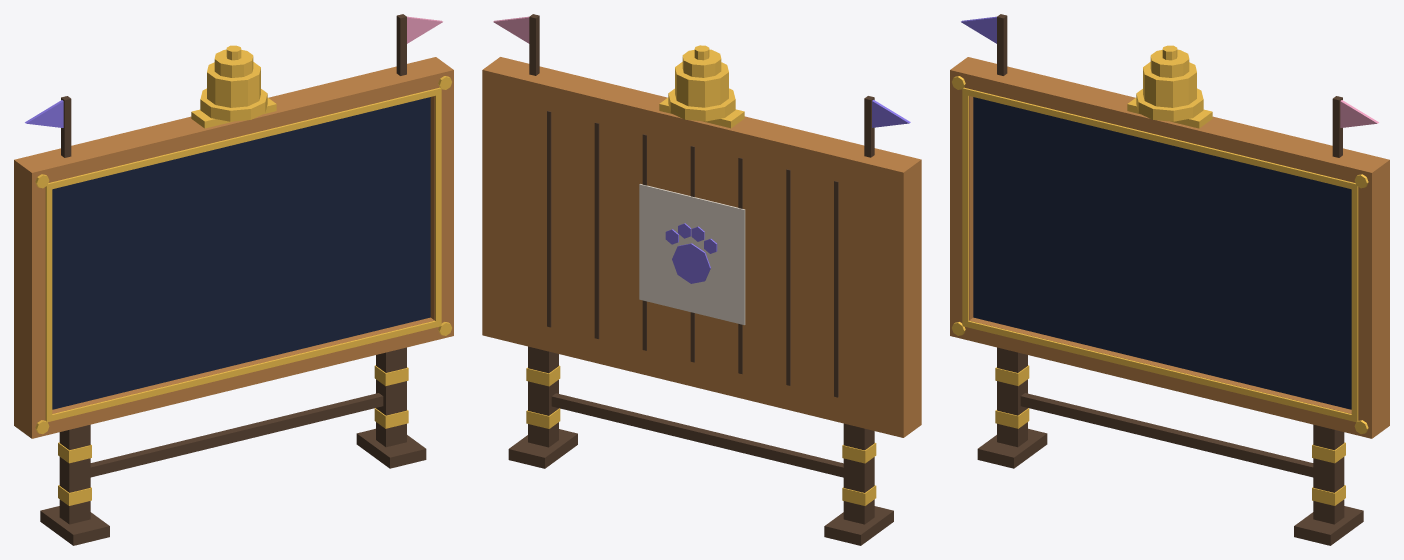
Rendered from CatCafe_Square_UpdatePoster.glb.
The picture shows the model from 3 angles, left to right: view 1: azimuth 30°, elevation 25°; view 2: azimuth 150°, elevation 25°; view 3: azimuth 330°, elevation 25°; orthographic projection.
Parts seen in each view (by area): view 1: CatCafe_Square_UpdatePoster_Screen, CatCafe_Square_UpdatePoster; view 2: CatCafe_Square_UpdatePoster; view 3: CatCafe_Square_UpdatePoster_Screen, CatCafe_Square_UpdatePoster.
Part boxes in pixels (x1,y1,x2,y2): CatCafe_Square_UpdatePoster_Screen: [52, 97, 430, 409]; CatCafe_Square_UpdatePoster: [14, 14, 453, 545]; CatCafe_Square_UpdatePoster: [482, 14, 921, 545]; CatCafe_Square_UpdatePoster_Screen: [973, 97, 1351, 409]; CatCafe_Square_UpdatePoster: [950, 14, 1389, 545].
Size of the model in its own units: 8.8 by 8.82 by 1.25.
Materials: 1 (1 with a texture image).
